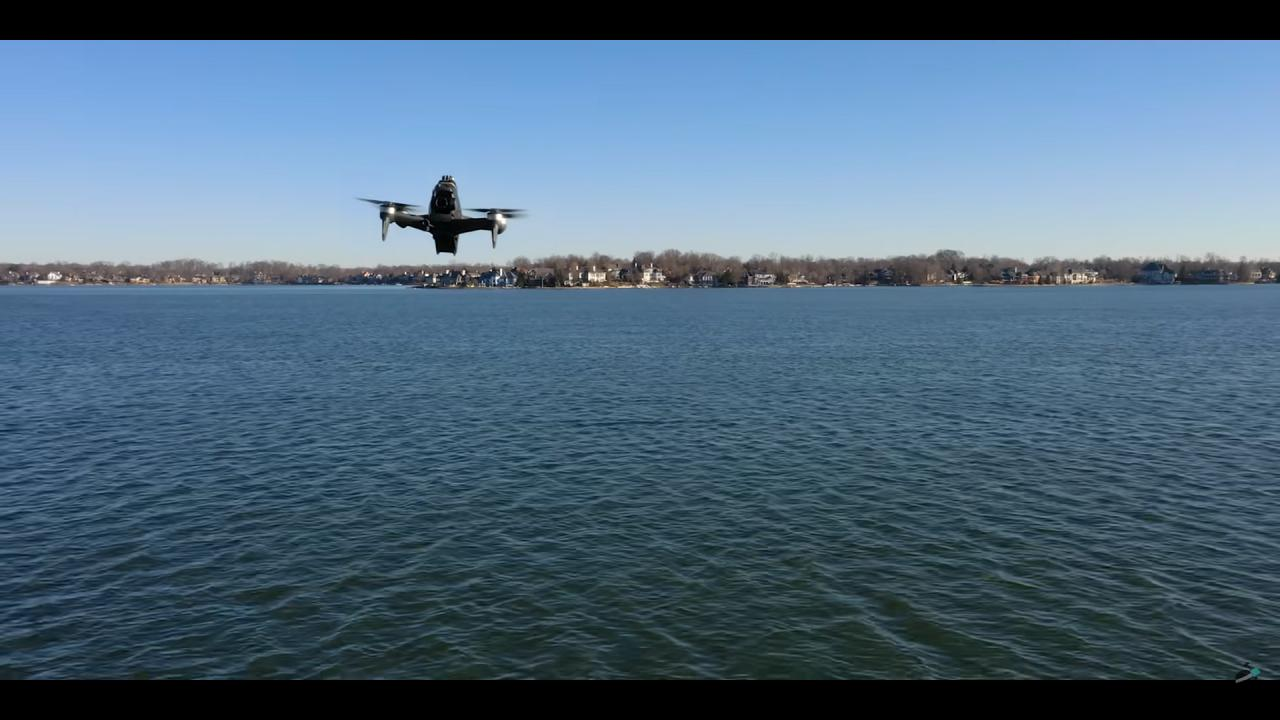Drone: (351, 164, 540, 268)
